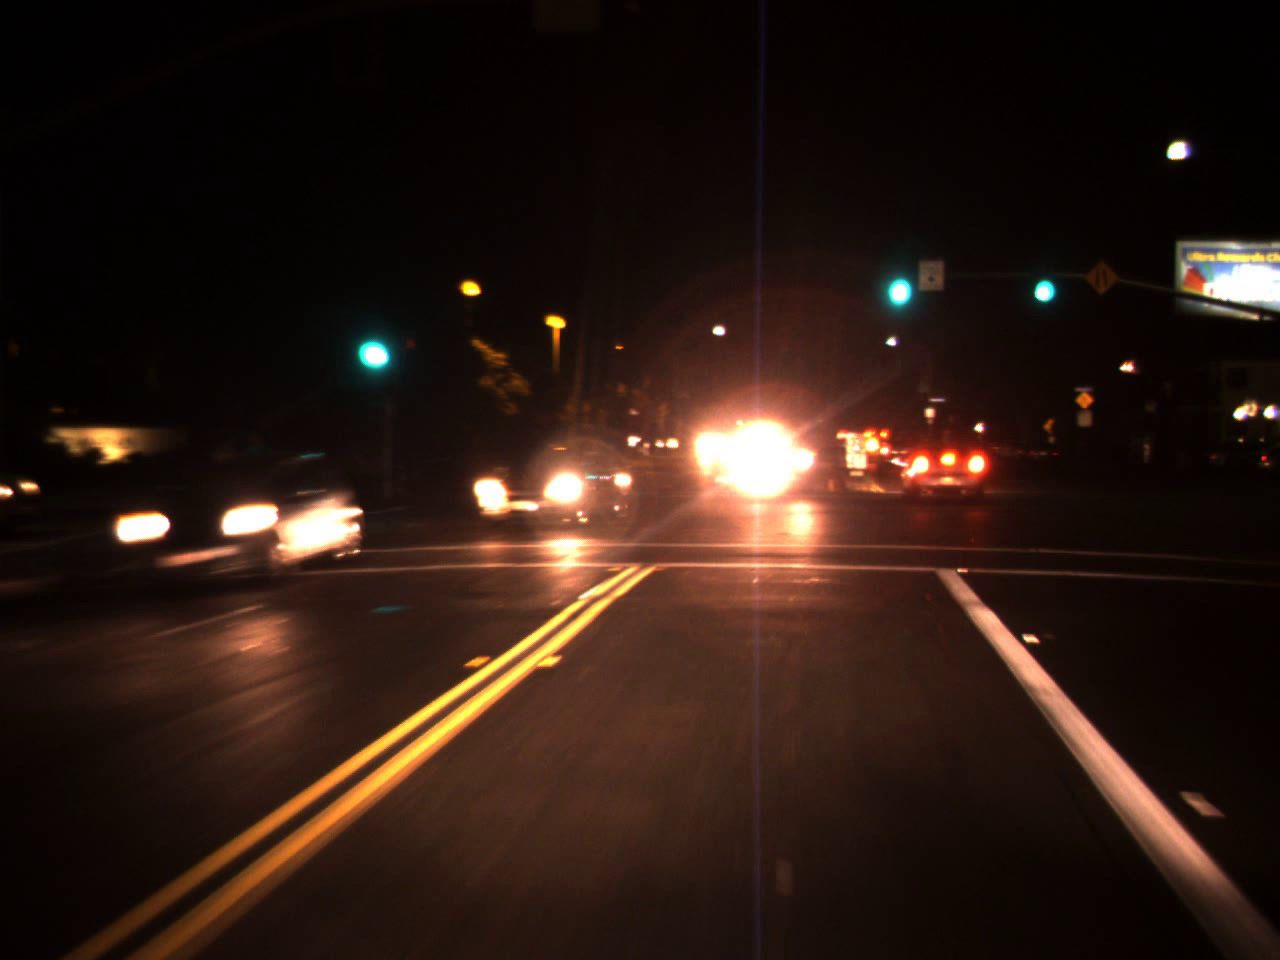go: (346, 303, 398, 381), (876, 242, 917, 317), (1027, 251, 1059, 311)
